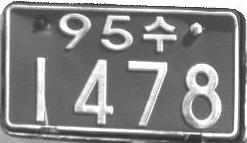1: (22, 57, 59, 122)
4: (73, 58, 114, 125)
5: (100, 14, 133, 50)
7: (126, 59, 168, 127)
8: (181, 62, 222, 130)
9: (58, 11, 91, 51)
수: (142, 15, 176, 51)
